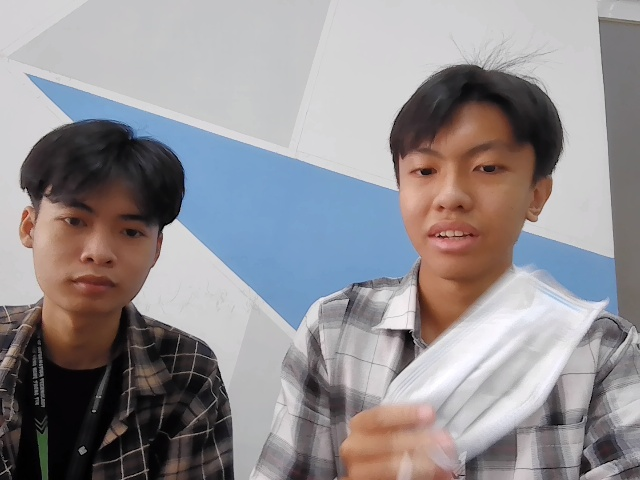human: (390, 66, 566, 281), (15, 120, 183, 316)
mask: (371, 271, 607, 462)
